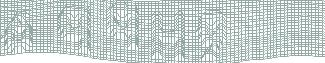6: (3, 10, 35, 56)
9: (195, 9, 227, 61)
H: (149, 10, 186, 62)
q: (56, 5, 94, 55), (106, 3, 141, 52)
